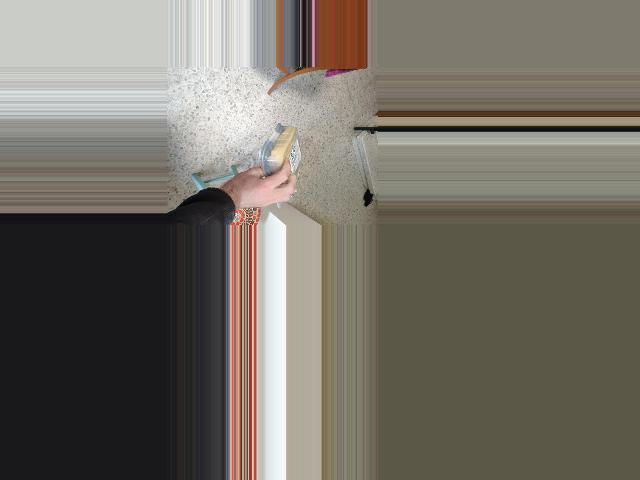cheese: (259, 121, 305, 197)
